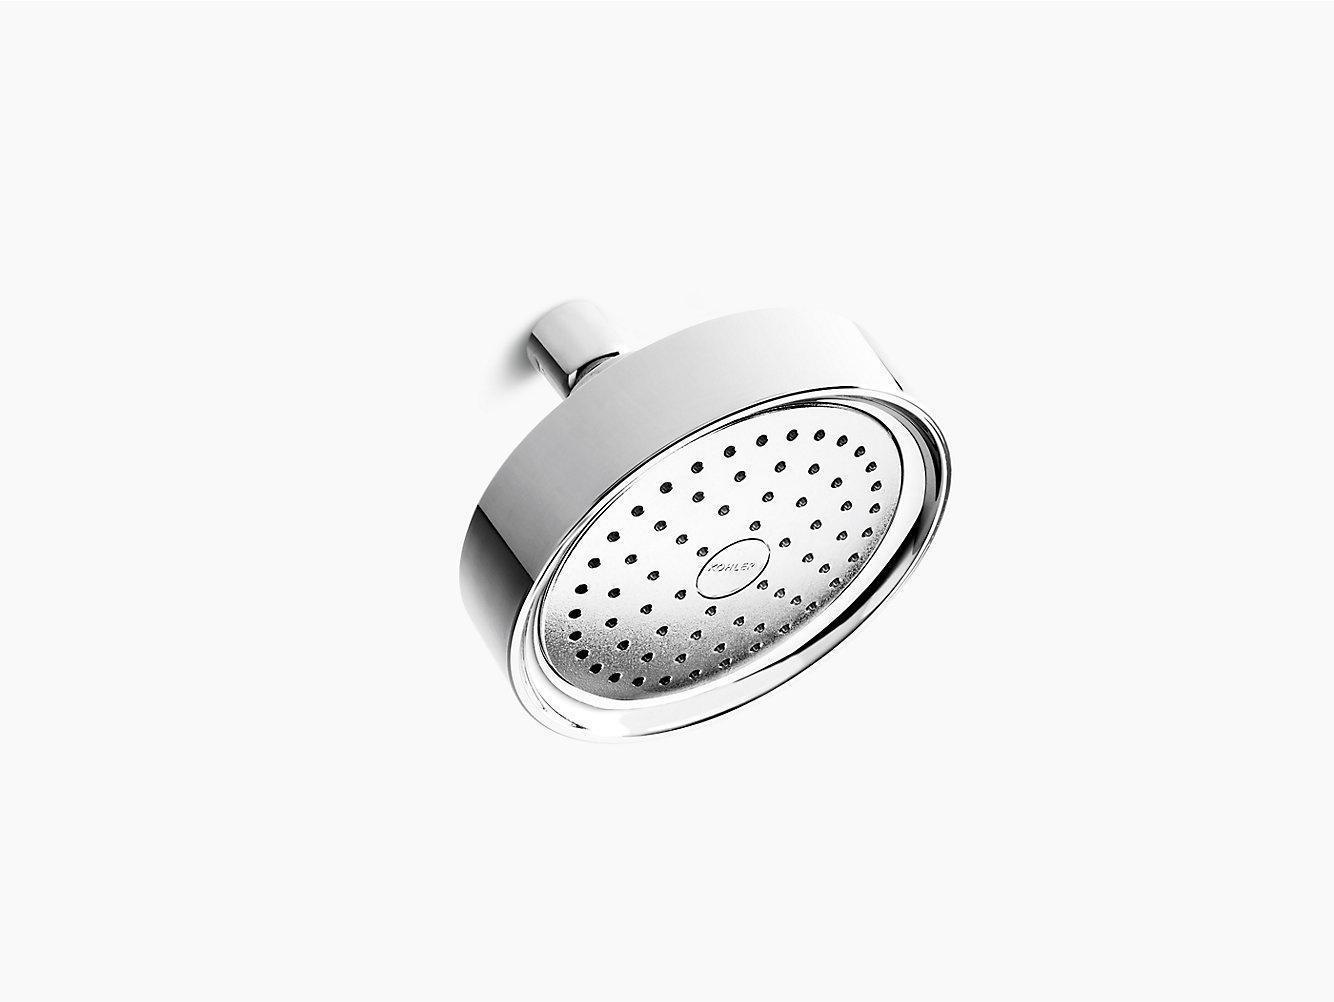Ducha: (451, 243, 957, 786)
